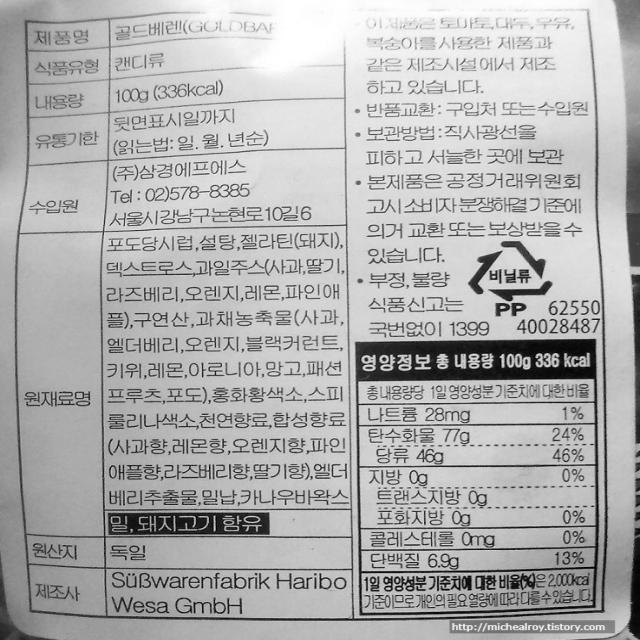Nutrition Label: (357, 345, 609, 622)
